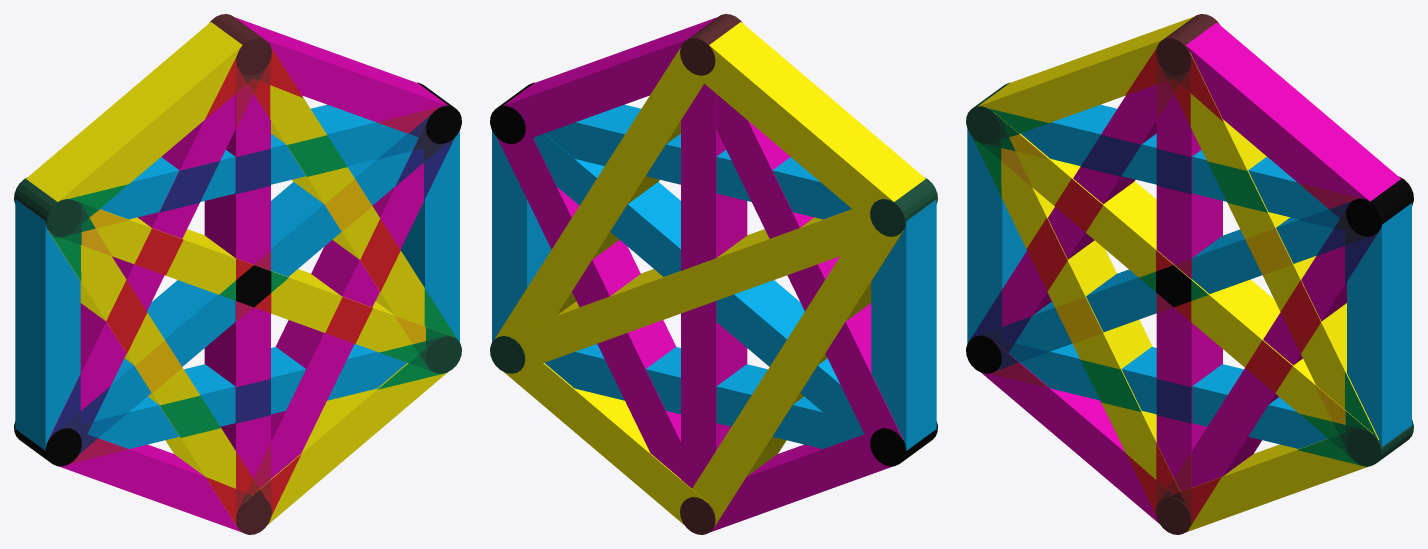
The model's file is multiculture.glb.
3 renders of one model, left to right at view 1: azimuth 30°, elevation 25°; view 2: azimuth 150°, elevation 25°; view 3: azimuth 330°, elevation 25°, orthographic.
Parts seen in each view (by area): view 1: Cube.003, Cube.015, Cube.013, Cube.008, Cube.012, Cube.011, Cube.004, Cube.006, Cube.007, Cube.010, Cube.014, Cube.001 (+9 smaller); view 2: Cube.003, Cube.015, Cube.013, Cube.008, Cube.012, Cube.011, Cube.004, Cube.006, Cube.007, Cube.010, Cube.014, Cube.001 (+9 smaller); view 3: Cube.003, Cube.012, Cube.010, Cube.013, Cube.011, Cube.005, Cube.008, Cube.006, Cube.007, Cube.015, Cube.001, Cube.002 (+9 smaller).
Part boxes in pixels (bbox=[...]): Cube.003: bbox=[57, 200, 452, 371]; Cube.015: bbox=[26, 22, 259, 209]; Cube.013: bbox=[204, 84, 270, 488]; Cube.008: bbox=[87, 133, 418, 437]; Cube.012: bbox=[48, 231, 259, 527]; Cube.011: bbox=[247, 48, 456, 338]; Cube.004: bbox=[15, 199, 80, 450]; Cube.006: bbox=[271, 137, 454, 478]; Cube.007: bbox=[48, 94, 235, 439]; Cube.010: bbox=[234, 17, 448, 142]; Cube.014: bbox=[245, 363, 447, 525]; Cube.001: bbox=[98, 344, 407, 448]; Cube.003: bbox=[499, 200, 894, 371]; Cube.015: bbox=[692, 22, 925, 209]; Cube.013: bbox=[681, 84, 747, 488]; Cube.008: bbox=[533, 133, 864, 437]; Cube.012: bbox=[692, 231, 903, 527]; Cube.011: bbox=[495, 48, 704, 338]; Cube.004: bbox=[871, 199, 936, 450]; Cube.006: bbox=[497, 137, 680, 478]; Cube.007: bbox=[716, 94, 903, 439]; Cube.010: bbox=[503, 17, 717, 142]; Cube.014: bbox=[504, 363, 706, 525]; Cube.001: bbox=[544, 344, 853, 448]; Cube.003: bbox=[979, 112, 1372, 457]; Cube.012: bbox=[971, 136, 1180, 515]; Cube.010: bbox=[1186, 22, 1400, 227]; Cube.013: bbox=[1156, 80, 1222, 491]; Cube.011: bbox=[1168, 52, 1379, 439]; Cube.005: bbox=[1347, 203, 1411, 446]; Cube.008: bbox=[1009, 209, 1339, 362]; Cube.006: bbox=[1192, 219, 1378, 487]; Cube.007: bbox=[971, 84, 1156, 352]; Cube.015: bbox=[978, 17, 1193, 133]; Cube.001: bbox=[1020, 343, 1327, 448]; Cube.002: bbox=[1021, 104, 1328, 219].
Size of the model in its own units: 1.89 by 2.16 by 0.26.
